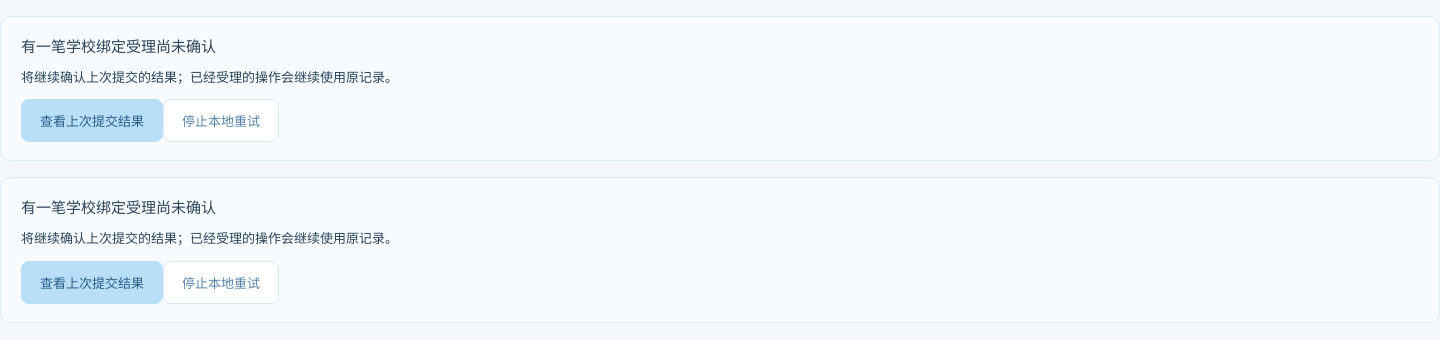
it: 停止一条历史本地重试不发送学校请求，其他未知请求继续保留
The image size is (1440, 340).
Click the 1st button "停止本地重试": x=221, y=121 163,99 -> 279,142
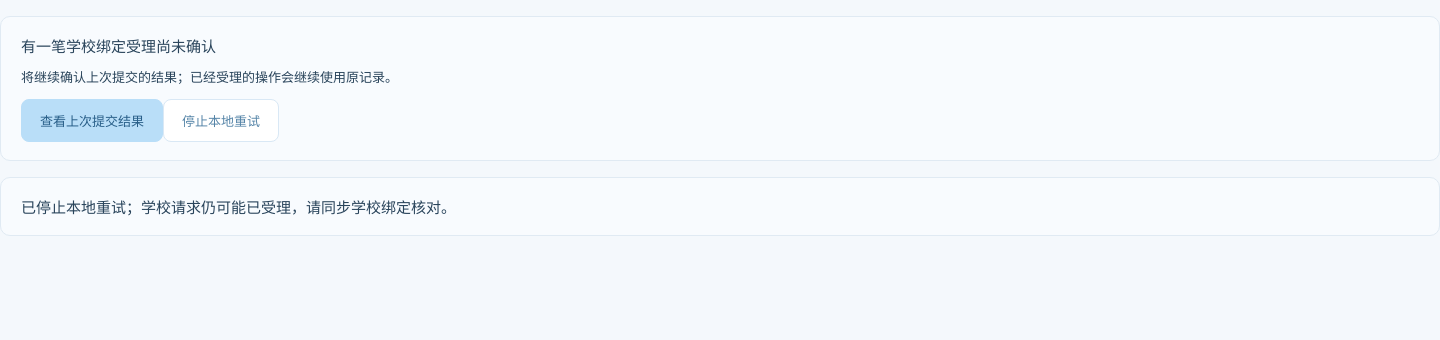
Result: the heading "已停止本地重试；学校请求仍可能已受理，请同步学校绑定核对。" is shown at 21,198 -> 456,217
